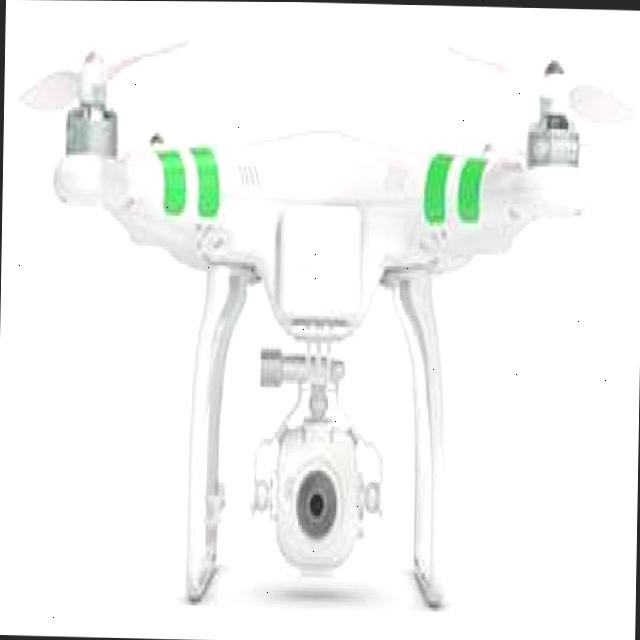drone: (11, 28, 640, 367)
